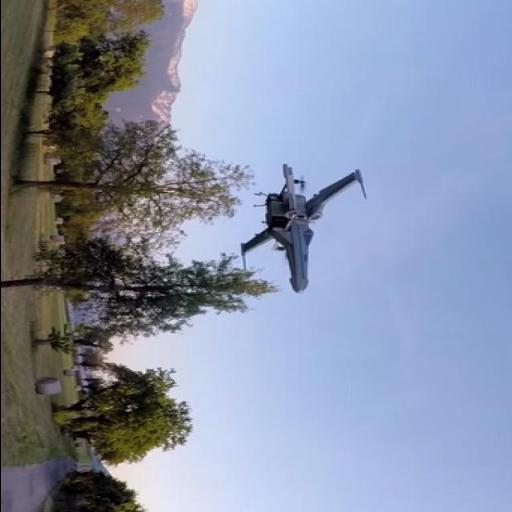uav: (219, 155, 374, 315)
